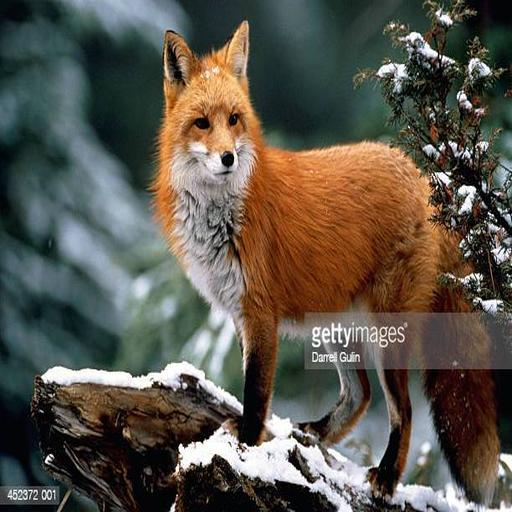Fox: (149, 15, 512, 505)
